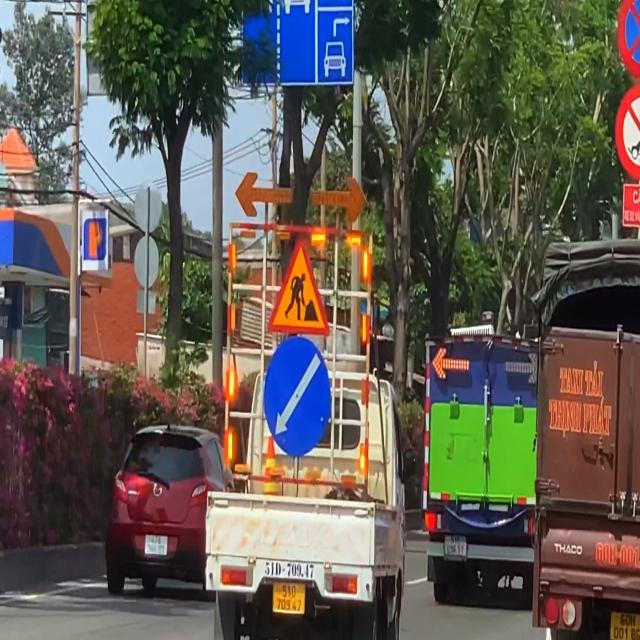Hieu lenh: (266, 343, 329, 462)
